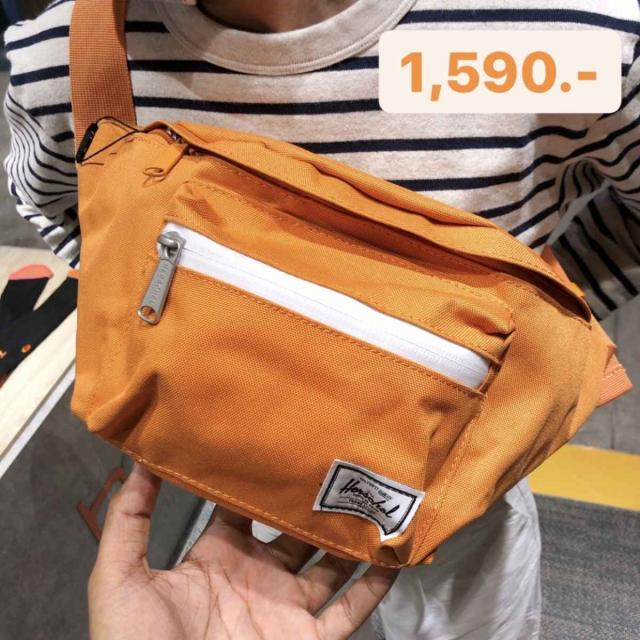Handbag: (71, 79, 640, 571)
